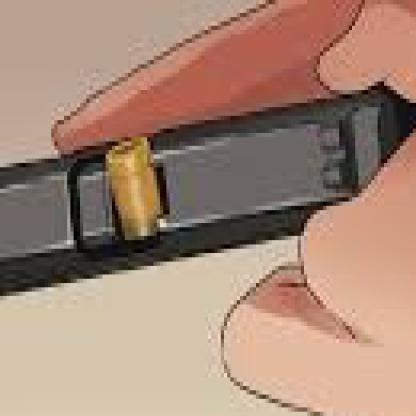gun: (0, 52, 413, 335)
